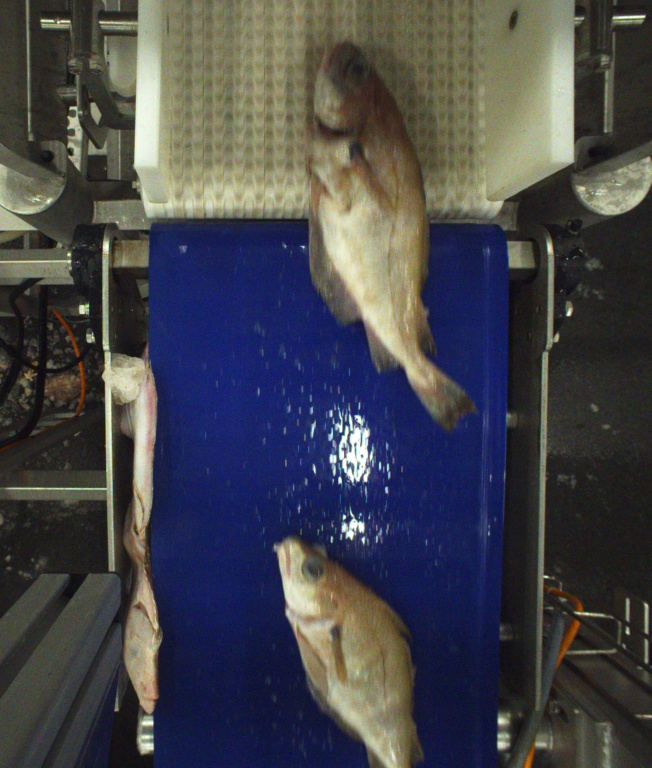BIB: (312, 41, 472, 431)
